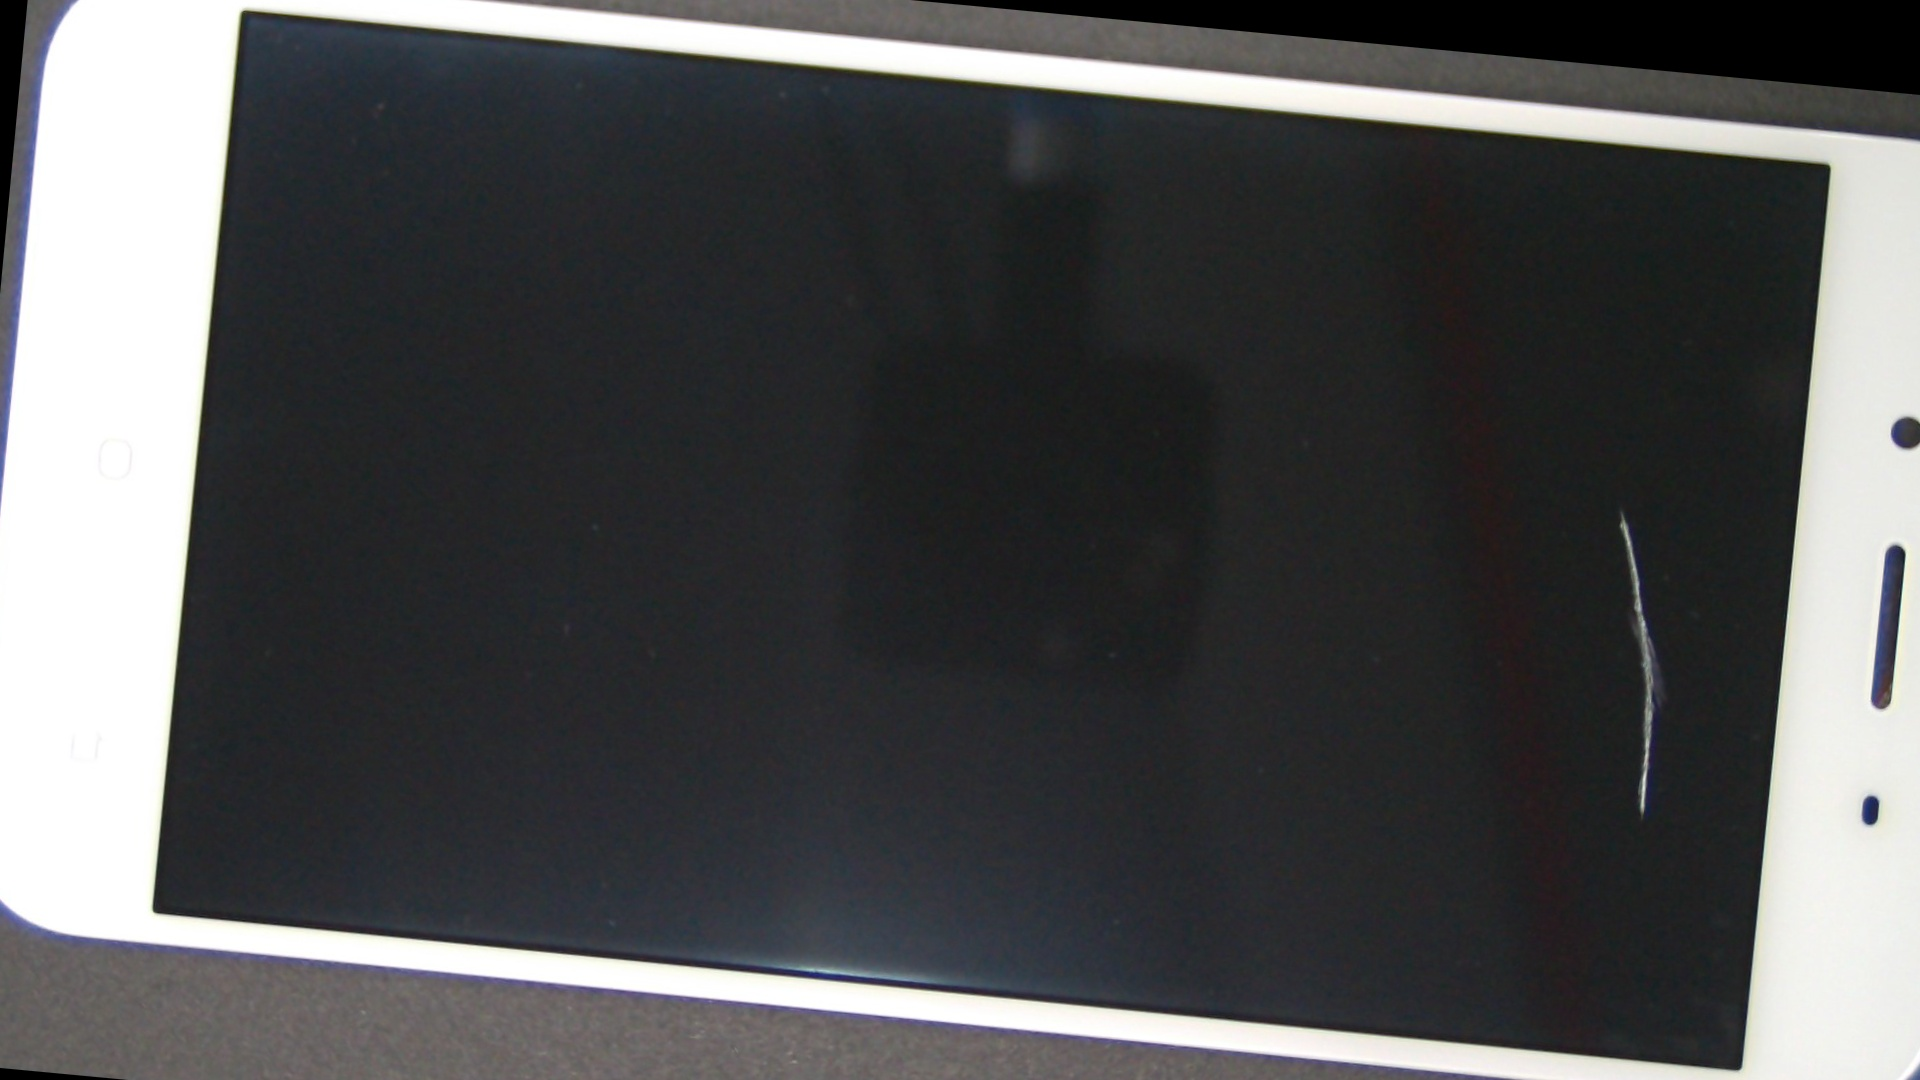oil: (786, 214, 1920, 766)
